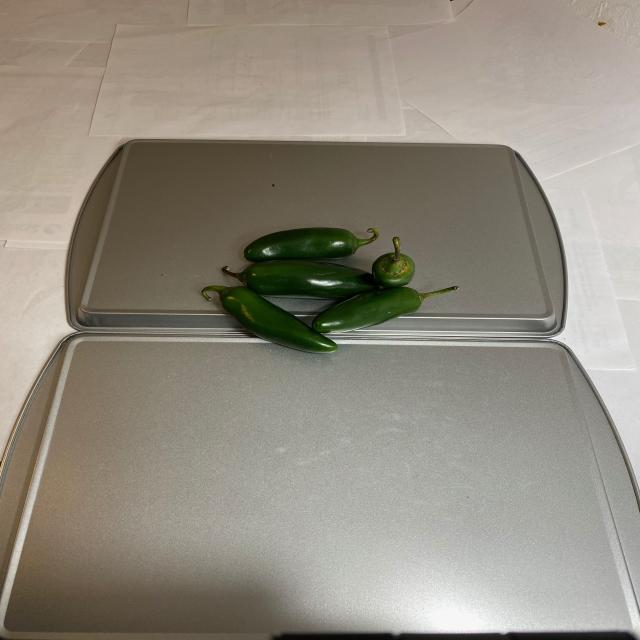chilli: (194, 228, 447, 356)
